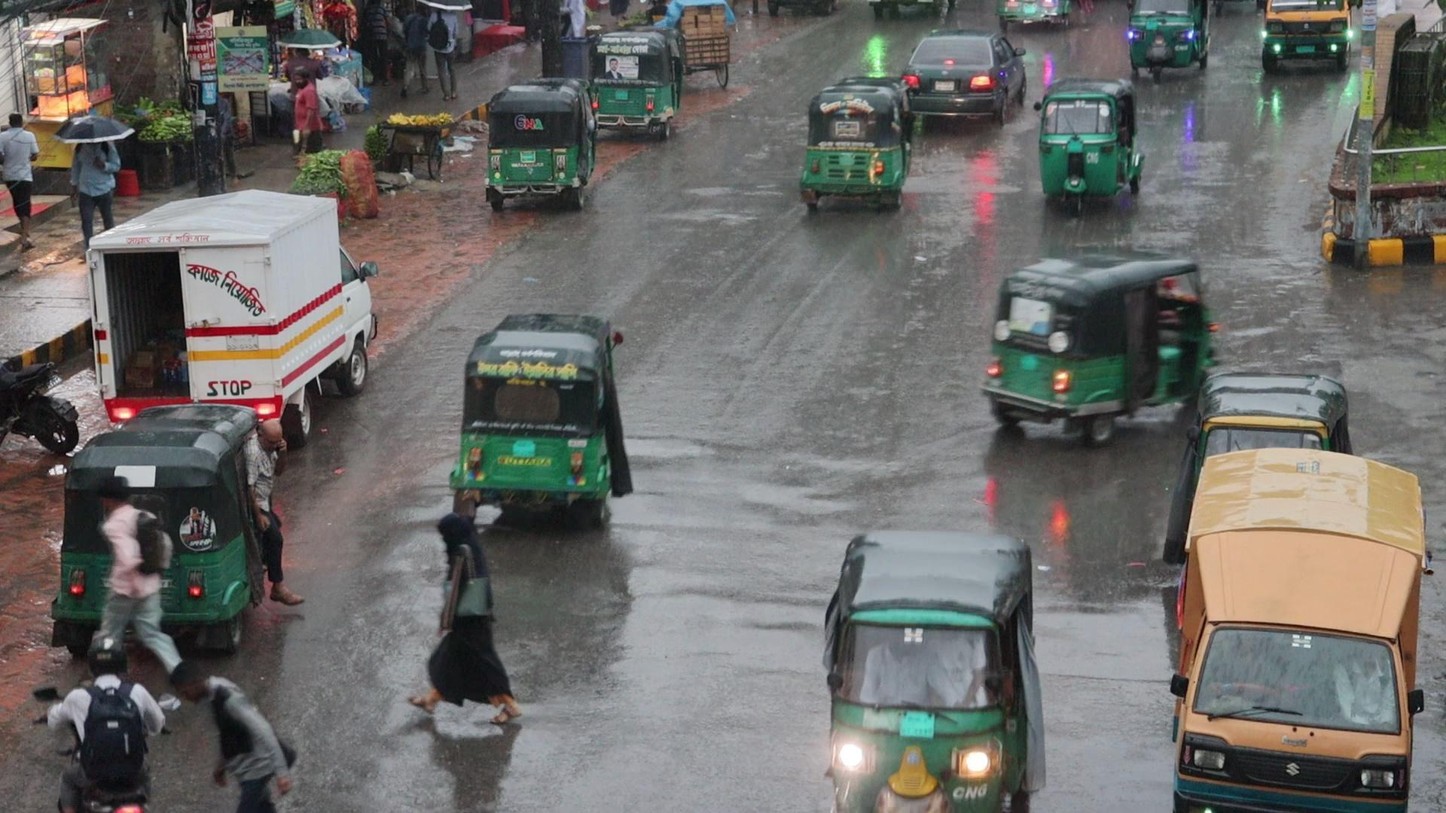Car: (977, 240, 1221, 445)
Truck: (1164, 444, 1431, 813)
